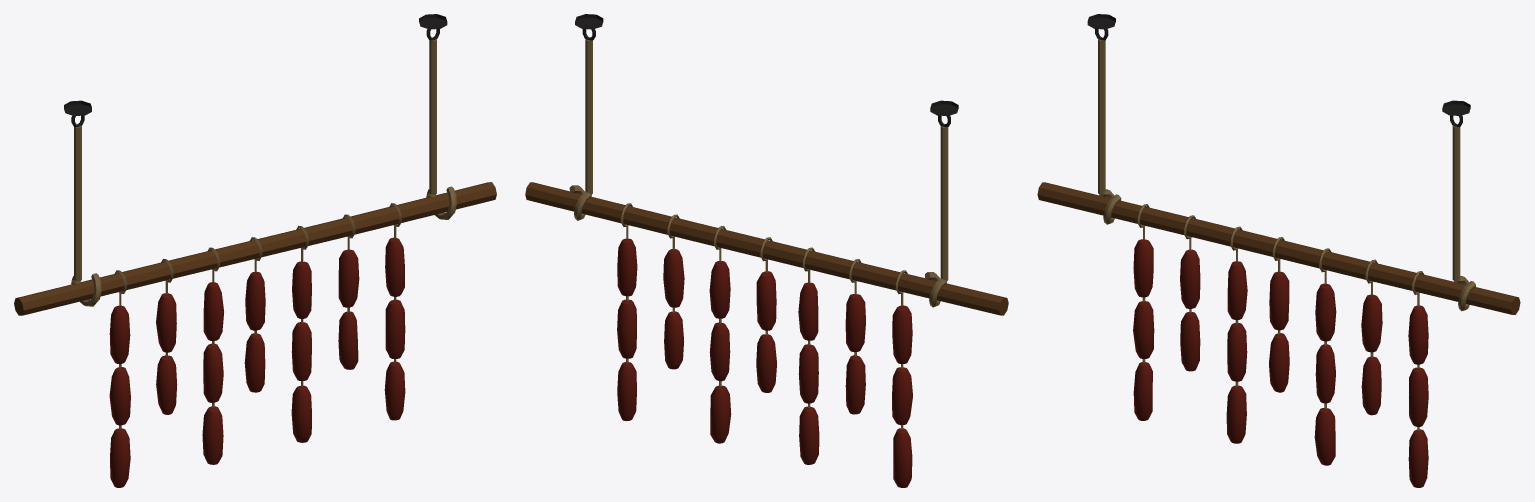
File: wurststange.glb
The picture shows the model from 3 angles, left to right: view 1: azimuth 30°, elevation 25°; view 2: azimuth 150°, elevation 25°; view 3: azimuth 330°, elevation 25°; orthographic projection.
Parts seen in each view (by area): view 1: wurststange; view 2: wurststange; view 3: wurststange.
Part boxes in pixels (<box>): wurststange: <box>14,14,496,487</box>; wurststange: <box>525,14,1008,487</box>; wurststange: <box>1037,14,1520,487</box>.
Size of the model in its own units: 1.12 by 0.8838 by 0.0683.
